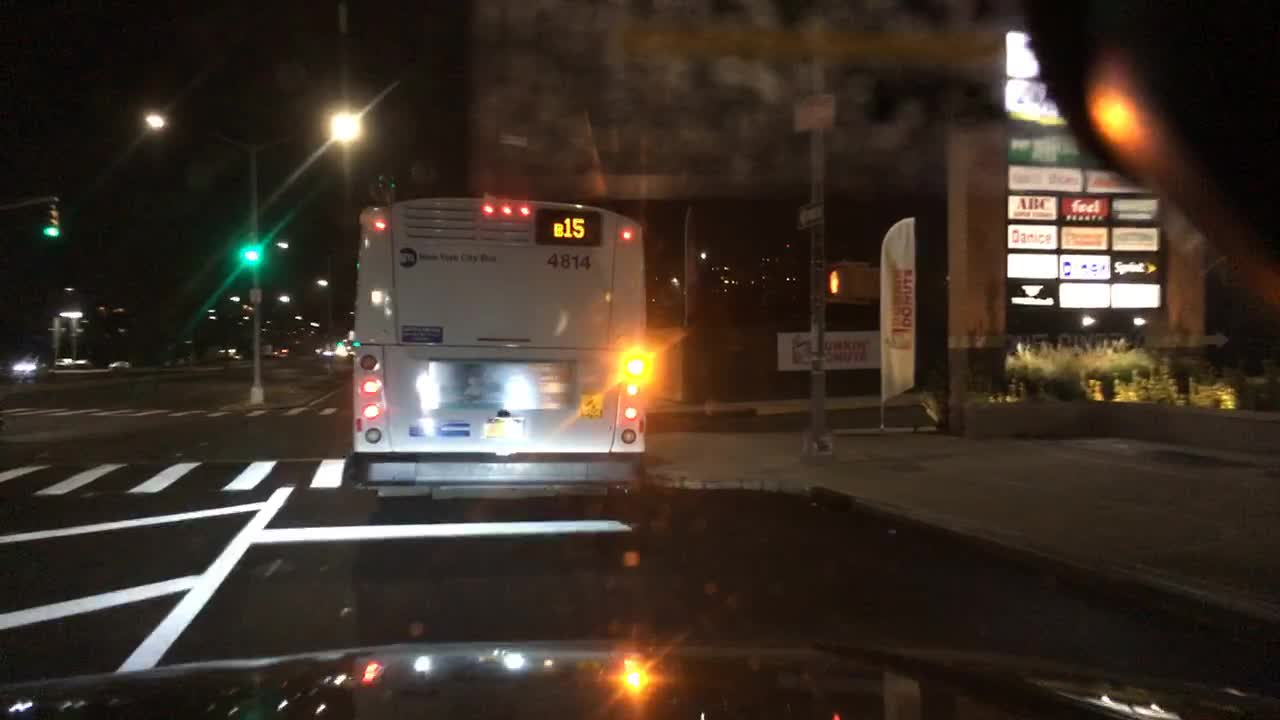bus: (348, 192, 651, 519)
car: (208, 342, 241, 361), (261, 342, 294, 358), (101, 359, 133, 372)
traffic light: (827, 264, 878, 300), (240, 242, 261, 275), (44, 200, 57, 242)
traffic sign: (790, 95, 832, 132), (791, 206, 823, 234), (795, 66, 828, 93)
